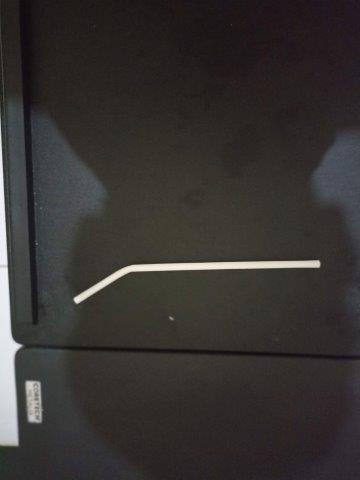sedotan: (73, 260, 320, 305)
